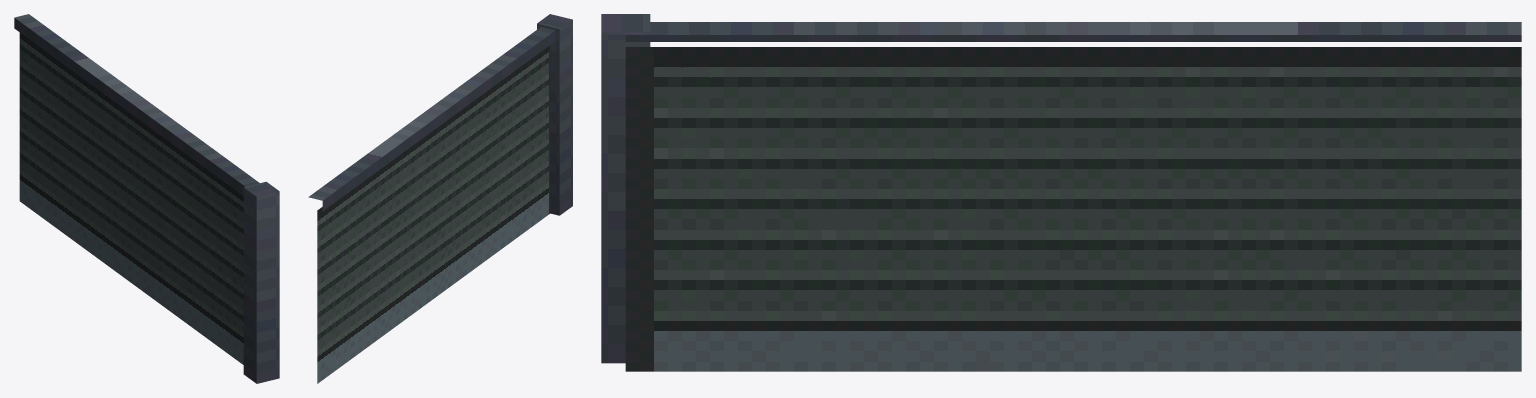
The model's file is mtn_soundwall.glb.
3 views of the same model, side by side, from view 1: azimuth 30°, elevation 25°; view 2: azimuth 150°, elevation 25°; view 3: azimuth 270°, elevation 25° (orthographic). The views are drawn at different scales.
Parts seen in each view (by area): view 1: mtn_soundwall; view 2: mtn_soundwall; view 3: mtn_soundwall.
Part boxes in pixels (<box>): mtn_soundwall: <box>14,14,279,383</box>; mtn_soundwall: <box>308,14,572,383</box>; mtn_soundwall: <box>601,14,1521,371</box>.
Size of the model in its own units: 0.22 by 1.72 by 4.11.
2 materials, 2 textured.
